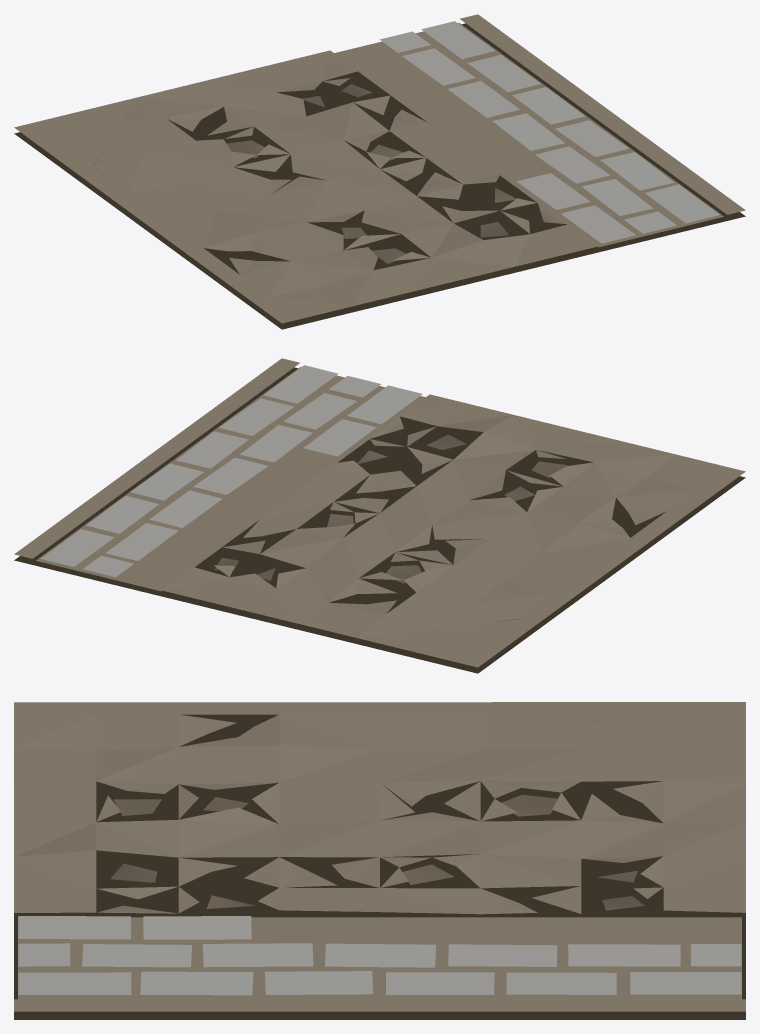
File: mud.lod.glb
3 views of the same model, one above another, from view 1: azimuth 30°, elevation 25°; view 2: azimuth 150°, elevation 25°; view 3: azimuth 270°, elevation 25° (orthographic). The views are drawn at different scales.
Parts seen in each view (by area): view 1: mud; view 2: mud; view 3: mud.
Part boxes in pixels (bbox=[...]): mud: bbox=[14, 14, 745, 329]; mud: bbox=[14, 358, 745, 673]; mud: bbox=[14, 702, 745, 1019].
Bounding box in the file's own units: 4 × 0.0891 × 4.
